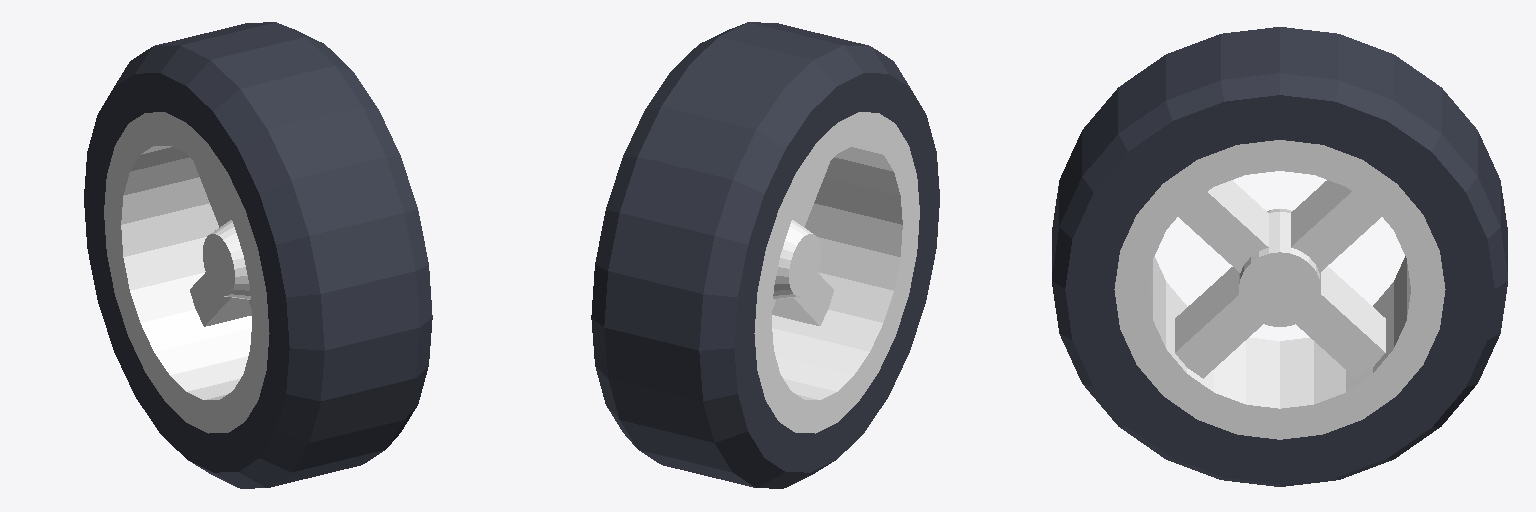
The model's file is Wheel05.obj.
3 renders of one model, left to right at view 1: azimuth 30°, elevation 25°; view 2: azimuth 150°, elevation 25°; view 3: azimuth 270°, elevation 25°, orthographic.
Parts seen in each view (by area): view 1: Wheel05; view 2: Wheel05; view 3: Wheel05.
Part boxes in pixels (x1,y1,x2,y2): Wheel05: (84,22,432,488); Wheel05: (591,22,939,488); Wheel05: (1052,27,1507,486).
Size of the model in its own units: 0.2156 by 0.6161 by 0.6161.